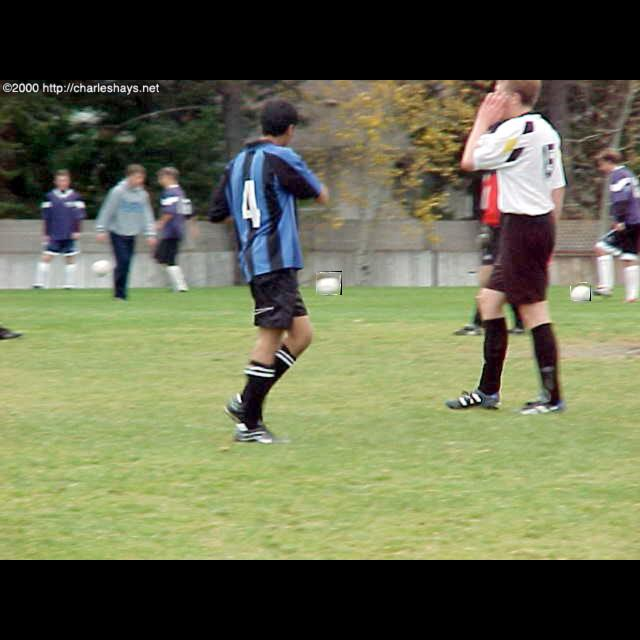Football: (316, 271, 342, 295), (571, 283, 591, 301)
